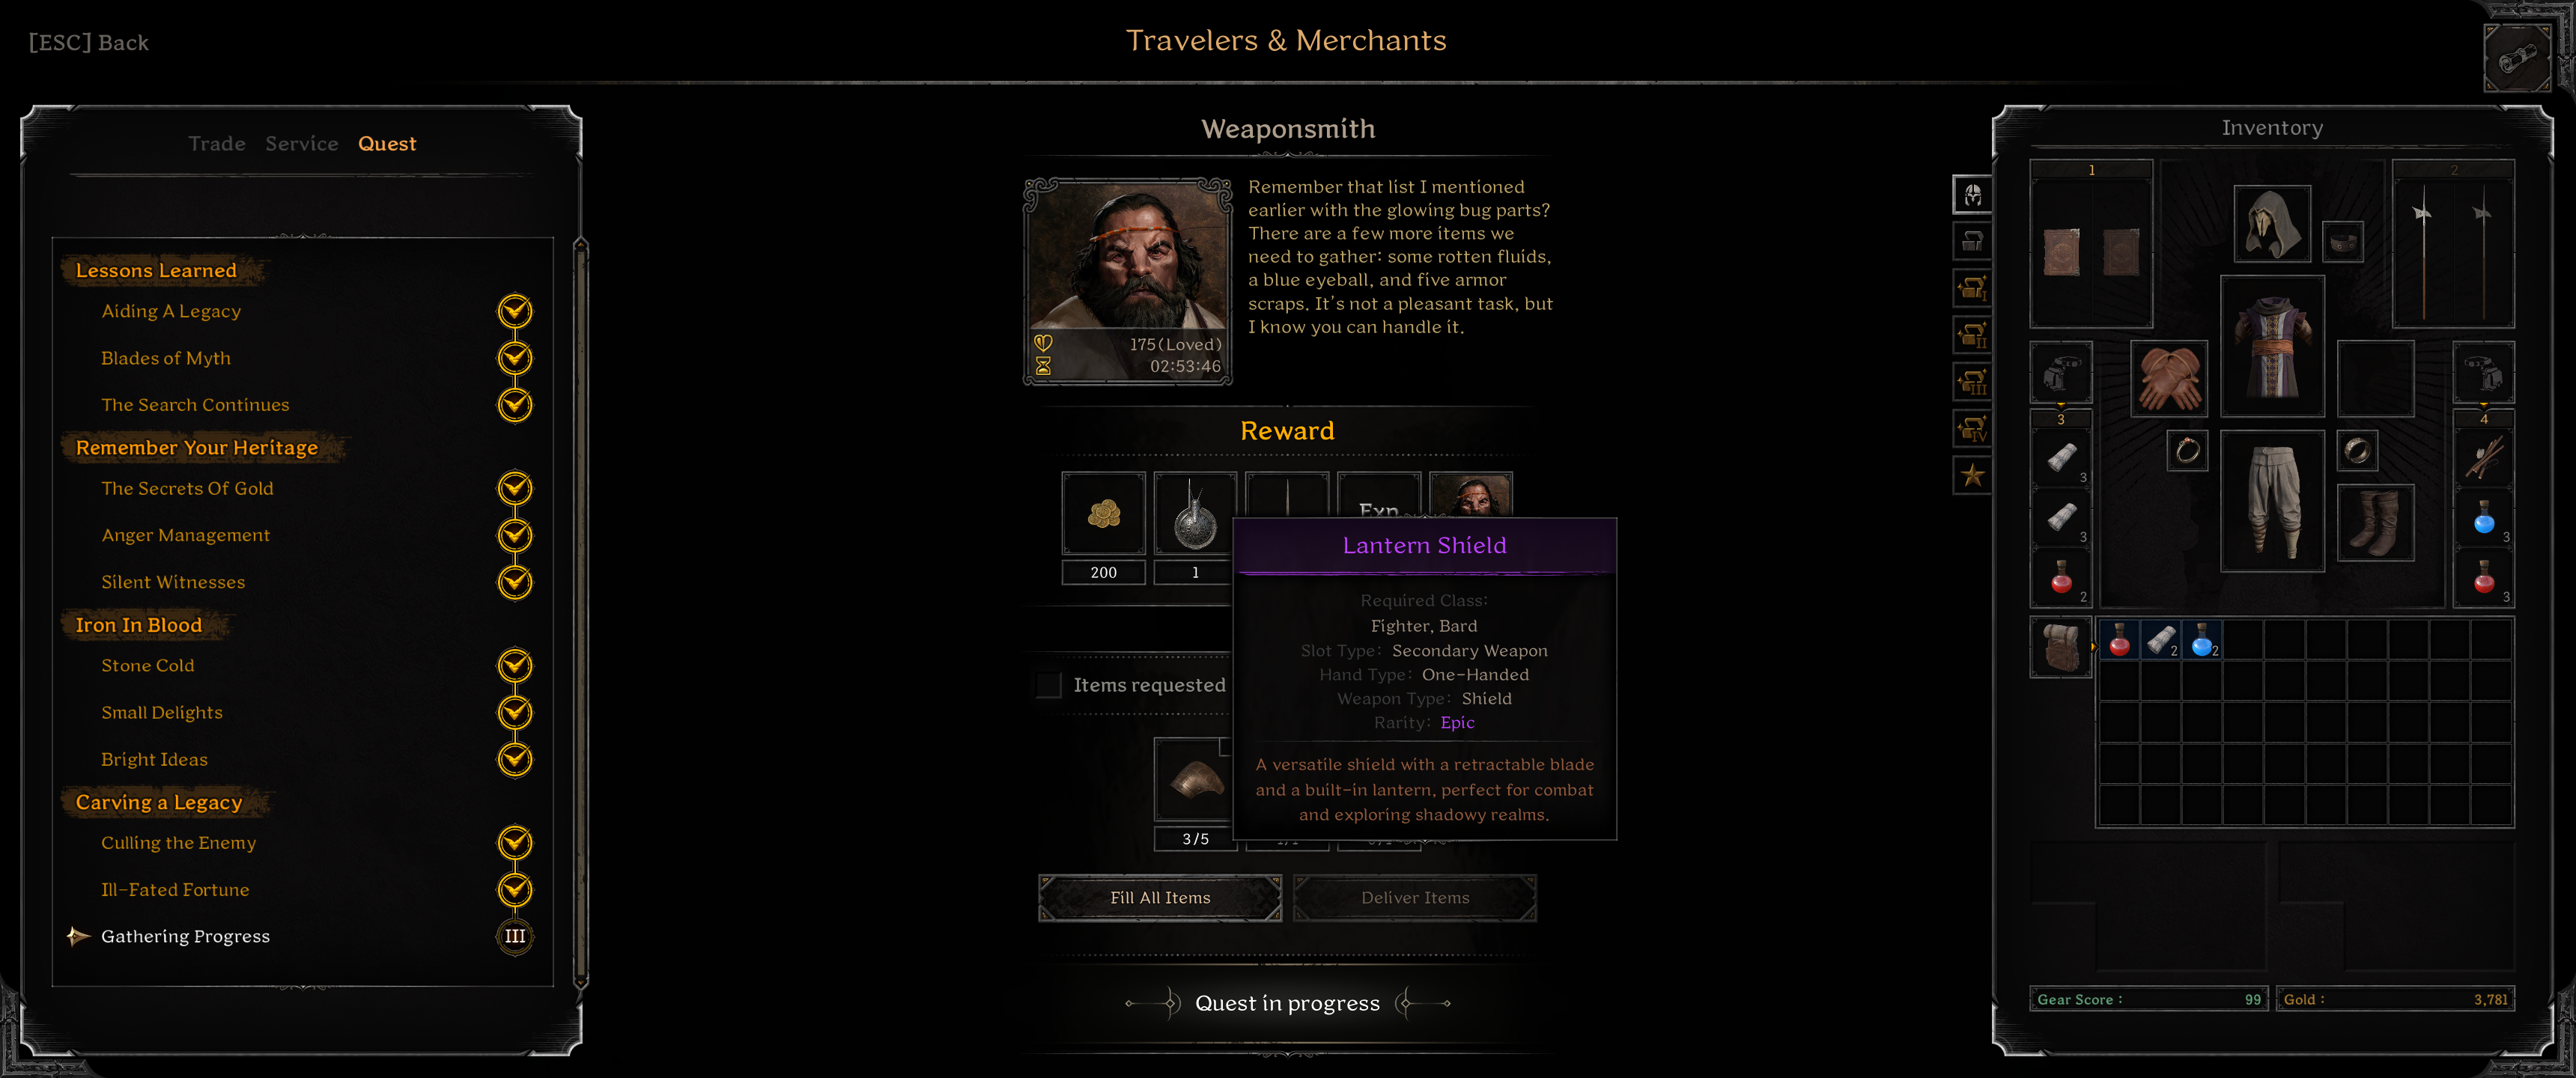Tooltip: (1232, 516, 1618, 843)
